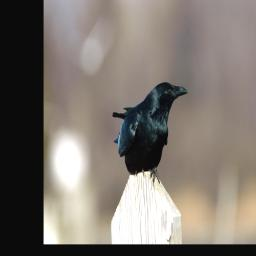Crow: (112, 82, 188, 183)
